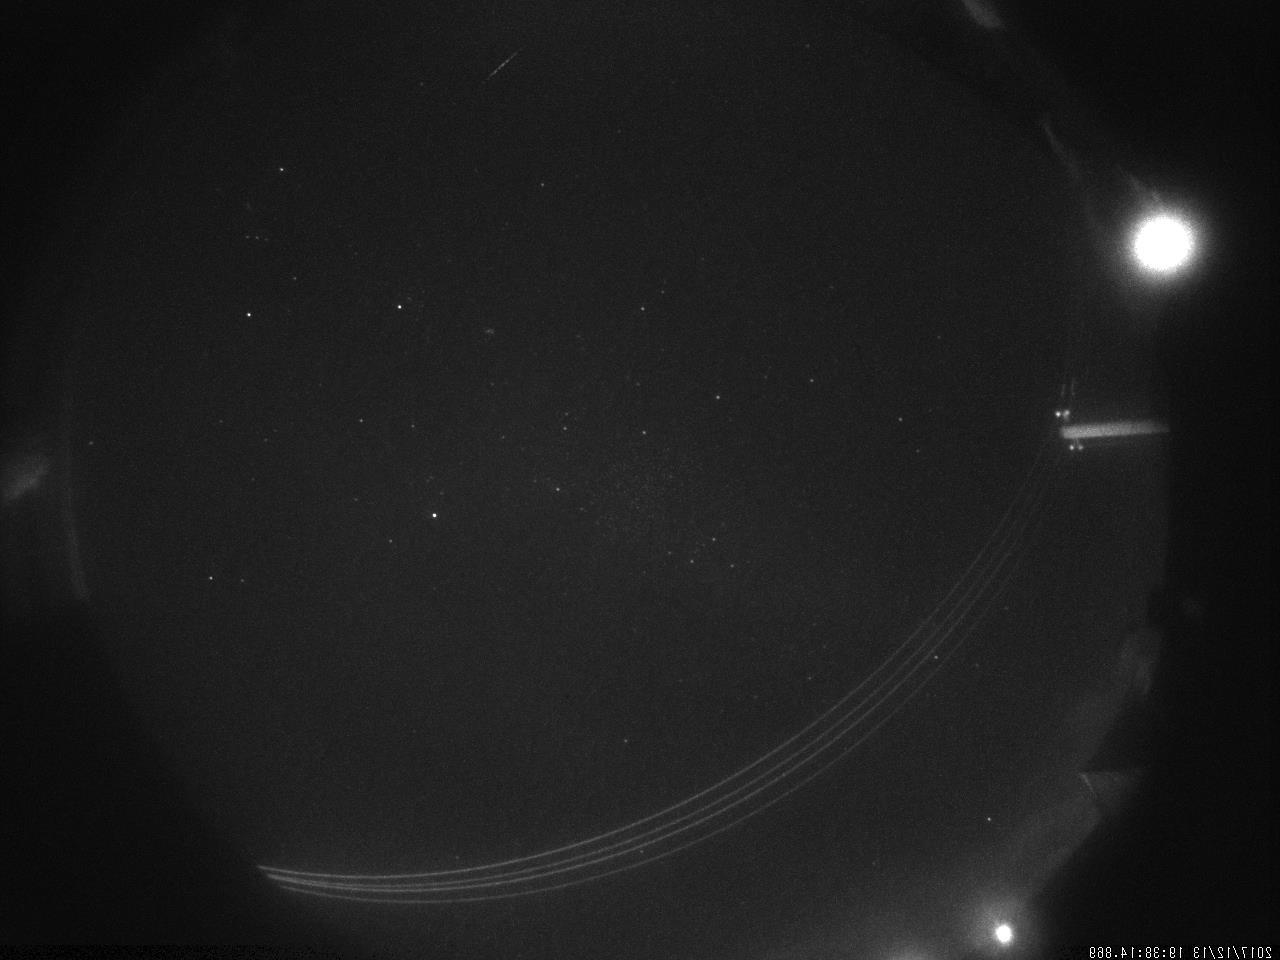meteor: (465, 34, 536, 98)
